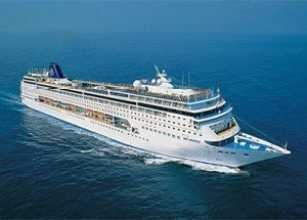youlun: (20, 53, 289, 168)
